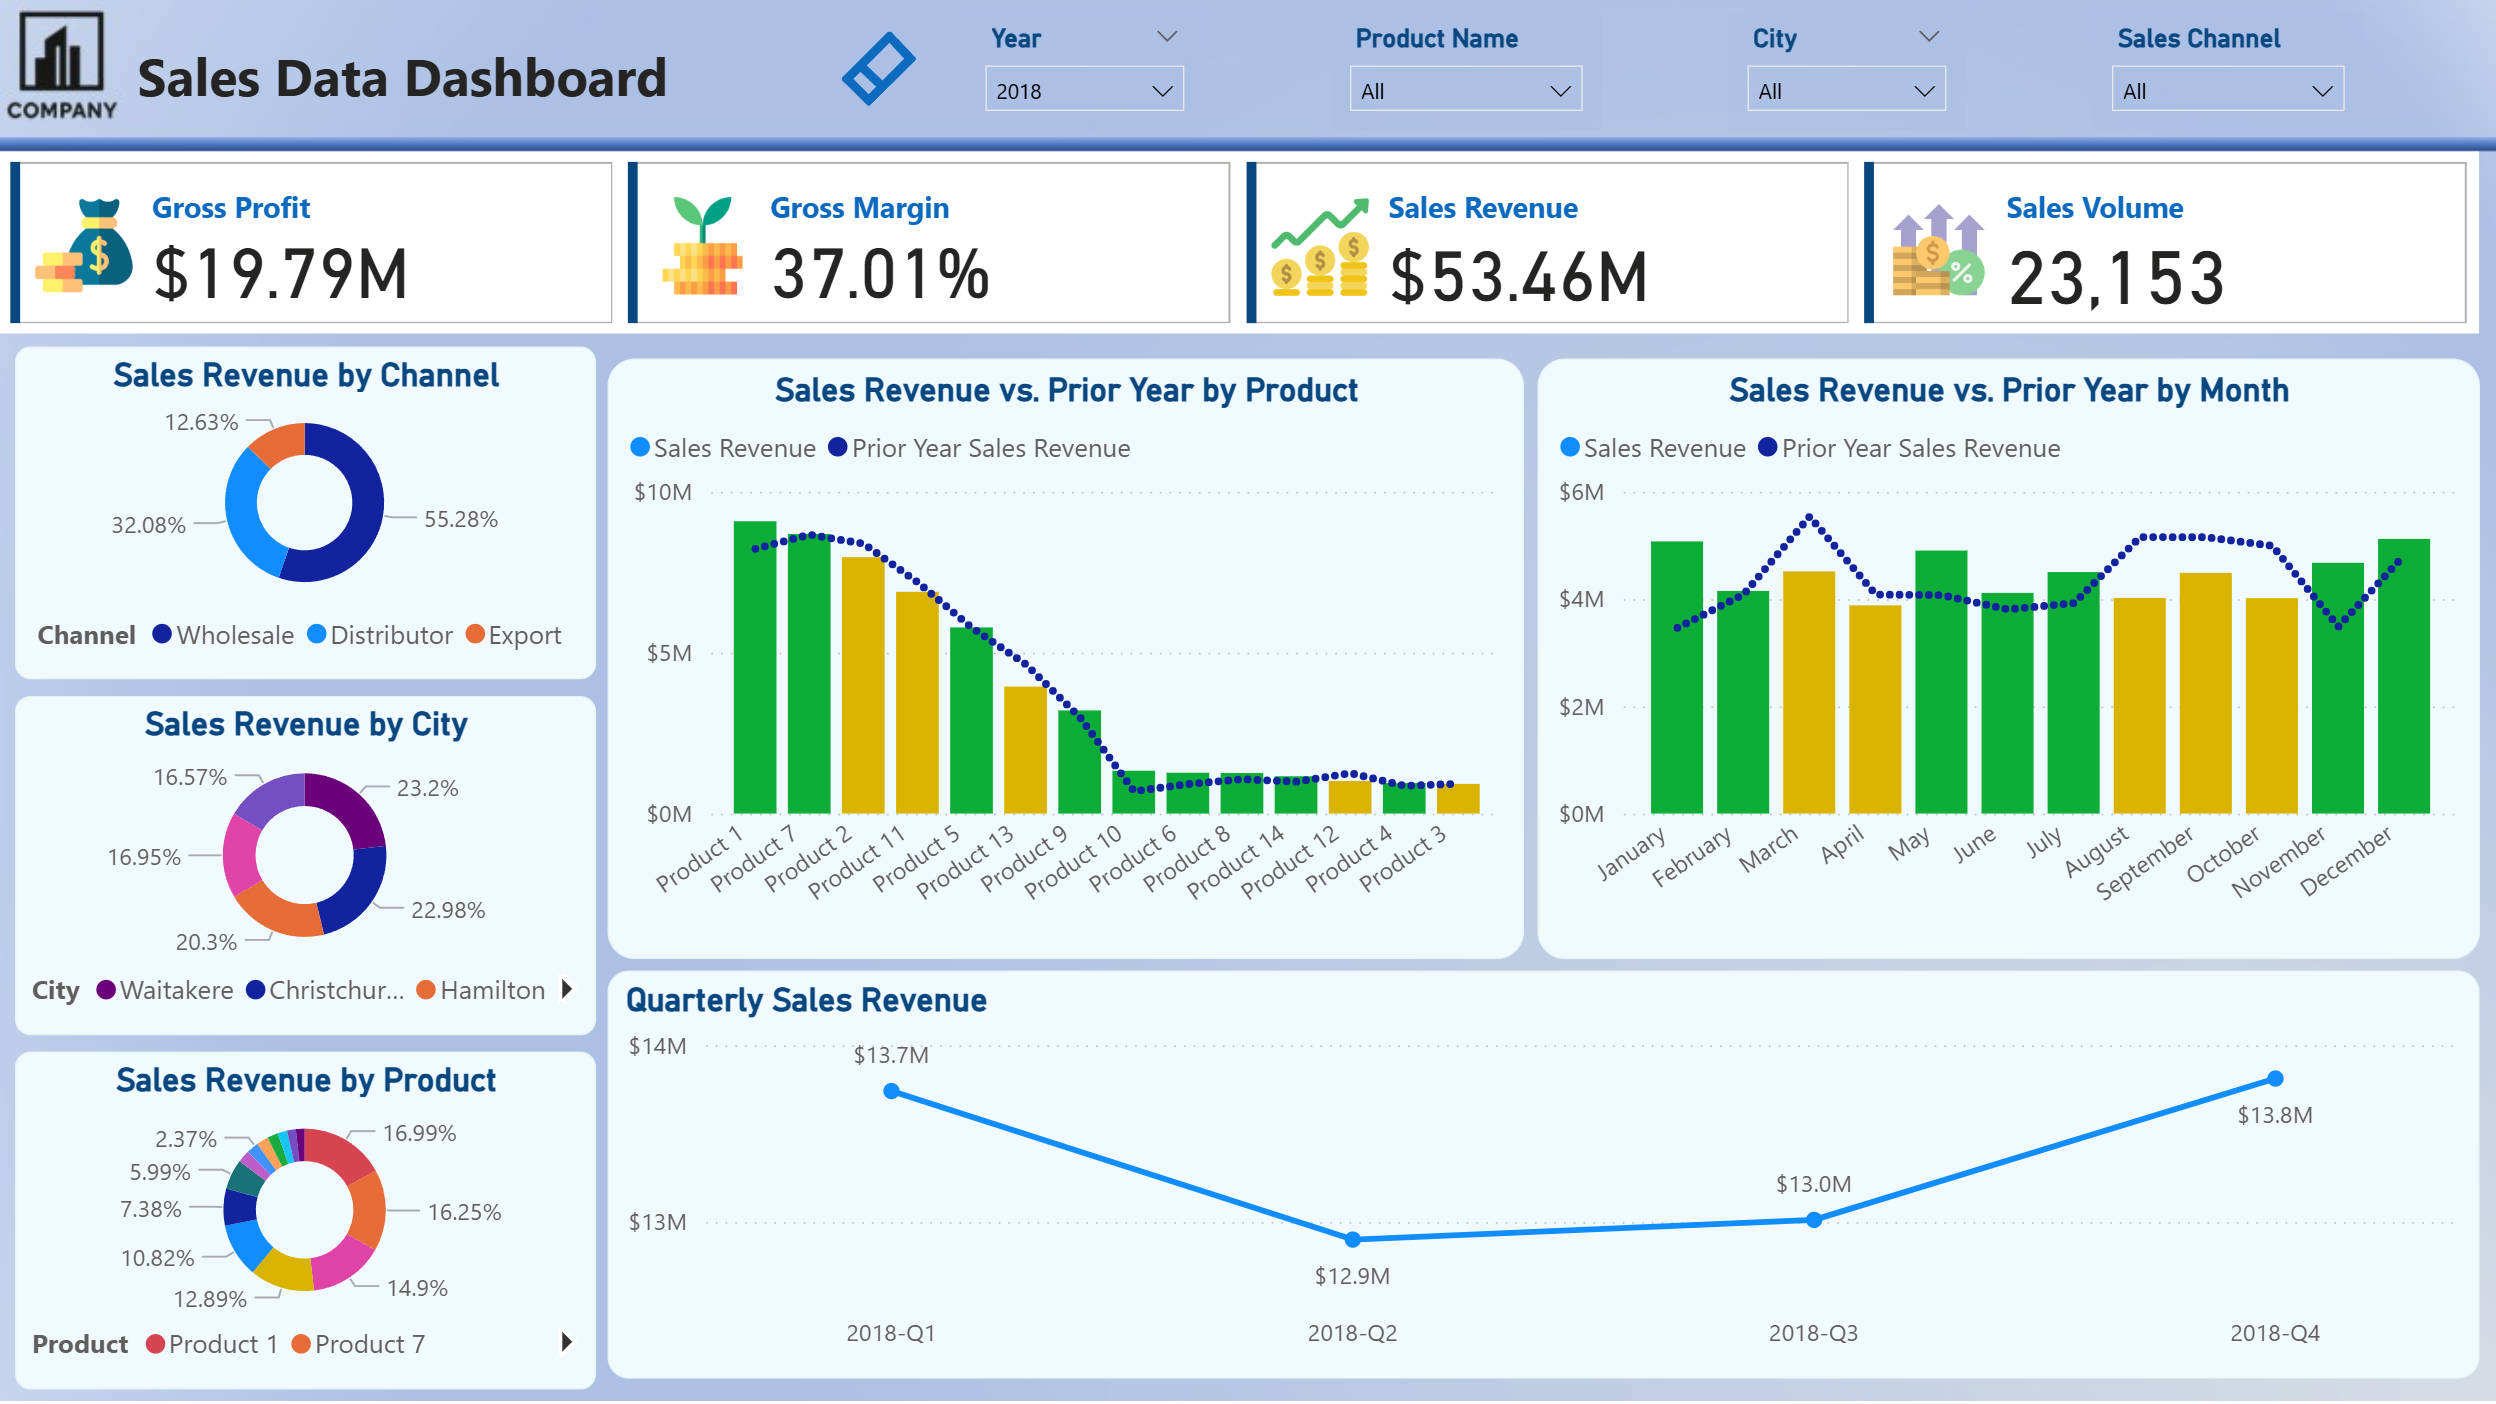

The dashboard page shown, as its layout file describes it:
{"tool":"powerbi","page":{"name":"Page 1","canvas":[1280,720],"ordinal":0},"visuals":[{"type":"slicer","fields":{"Values":["dDate.Year"]},"box":[495.5,7.3,121.8,56.4],"z":0},{"type":"slicer","fields":{"Values":["Products_Data.产品名称"]},"box":[682.1,7.3,139.1,60],"z":1000},{"type":"slicer","fields":{"Values":["Regions_Table.城市"]},"box":[886.1,7.3,121.8,60],"z":2000},{"type":"slicer","fields":{"Values":["Sales_Data.销售渠道"]},"box":[1072.7,7.3,139.1,60],"z":3000},{"type":"cardVisual","fields":{"Data":["DAX Table.Gross Profit","DAX Table.Gross Margin","DAX Table.Sales Revenue","DAX Table.Sales Volume"]},"box":[0,77.7,1271.5,93.1],"z":4000},{"type":"donutChart","title":"Sales Revenue by Channel","fields":{"Category":["Sales_Data.销售渠道"],"Y":["DAX Table.Sales Revenue"]},"box":[7.7,177.7,297.7,170.8],"z":5000},{"type":"donutChart","title":"Sales Revenue by Product ","fields":{"Y":["DAX Table.Sales Revenue"],"Category":["Products_Data.产品名称"]},"box":[7.7,539.2,297.7,173.1],"z":6000},{"type":"donutChart","fields":{"Y":["DAX Table.Sales Revenue"],"Category":["Regions_Table.城市"]},"box":[7.7,356.9,297.7,173.8],"z":7000},{"type":"lineChart","title":"Quarterly Sales Revenue","fields":{"Category":["dDate.Year-Quarter"],"Y":["DAX Table.Sales Revenue"]},"box":[311.5,497.7,960,209.2],"z":8000},{"type":"lineClusteredColumnComboChart","title":"Sales Revenue vs. Prior Year by Product","fields":{"Category":["Products_Data.产品名称"],"Y":["DAX Table.Sales Revenue"],"Y2":["DAX Table.Prior Year Sales Revenue"]},"box":[311.5,183.8,470,307.7],"z":9000},{"type":"lineClusteredColumnComboChart","title":"Sales Revenue vs. Prior Year by Month","fields":{"Y":["DAX Table.Sales Revenue"],"Y2":["DAX Table.Prior Year Sales Revenue"],"Category":["dDate.Month"]},"box":[788.5,183.8,483.1,307.7],"z":10000},{"type":"actionButton","box":[427.7,12.3,48.5,46.2],"z":11000},{"type":"textbox","box":[65.4,15.4,296.9,62.3],"z":12000}]}

Visuals, with their boxes in screenshot pixels (x1, y1, x2, y2), scaled from the page's 1280x720 canvas onto the 2496x1404 screenshot:
slicer - dDate.Year: (966,14,1204,124)
slicer - Products_Data.产品名称: (1330,14,1601,131)
slicer - Regions_Table.城市: (1728,14,1965,131)
slicer - Sales_Data.销售渠道: (2092,14,2363,131)
cardVisual - DAX Table.Gross Profit x DAX Table.Gross Margin: (0,152,2479,333)
"Sales Revenue by Channel" donutChart: (15,347,596,680)
"Sales Revenue by Product " donutChart: (15,1051,596,1389)
donutChart - DAX Table.Sales Revenue x Regions_Table.城市: (15,696,596,1035)
"Quarterly Sales Revenue" lineChart: (607,971,2479,1378)
"Sales Revenue vs. Prior Year by Product" lineClusteredColumnComboChart: (607,358,1524,958)
"Sales Revenue vs. Prior Year by Month" lineClusteredColumnComboChart: (1538,358,2480,958)
actionButton: (834,24,929,114)
textbox: (128,30,706,152)
